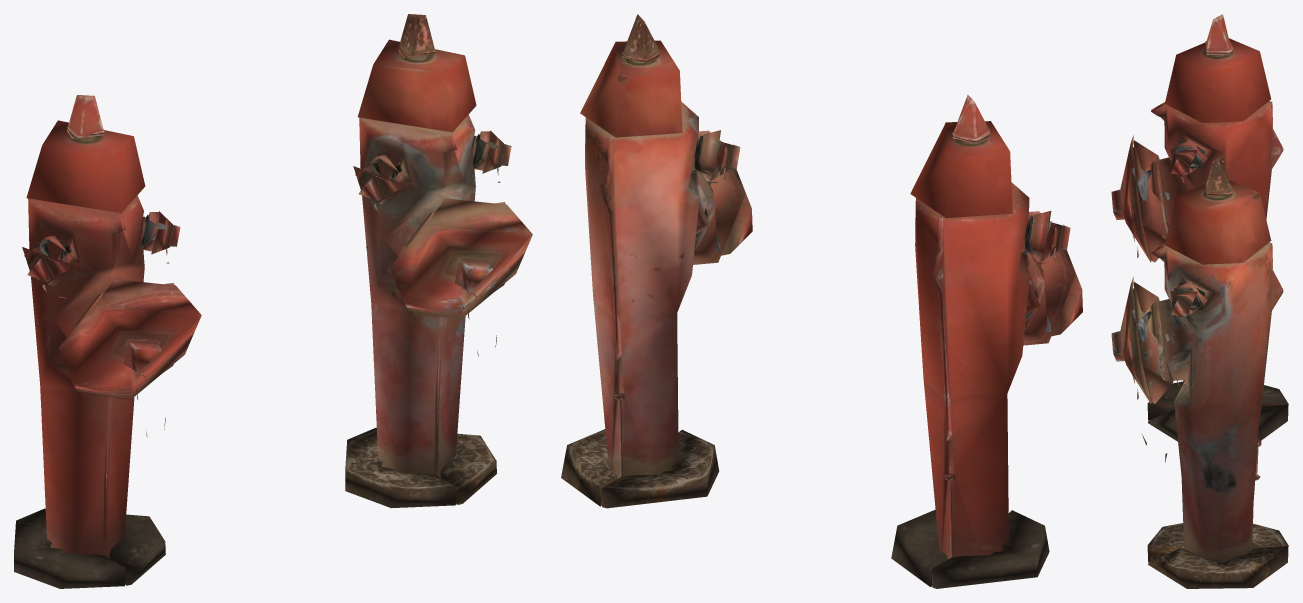
The model's file is fire_hydrant.glb.
The picture shows the model from 3 angles, left to right: view 1: azimuth 30°, elevation 25°; view 2: azimuth 150°, elevation 25°; view 3: azimuth 270°, elevation 25°; orthographic projection. The views are drawn at different scales.
Visible parts, largest first — view 1: fire_hydrant_aged, fire_hydrant; view 2: fire_hydrant, fire_hydrant_aged; view 3: fire_hydrant_aged, fire_hydrant.
Part boxes in pixels (<box>): fire_hydrant_aged: <box>345,14,532,508</box>; fire_hydrant: <box>14,95,201,588</box>; fire_hydrant: <box>891,95,1082,588</box>; fire_hydrant_aged: <box>561,14,752,508</box>; fire_hydrant_aged: <box>1111,155,1288,588</box>; fire_hydrant: <box>1111,14,1288,441</box>.
Bounding box in the file's own units: 0.8728 × 0.7992 × 0.3173.
Materials: 2 (2 with a texture image).
